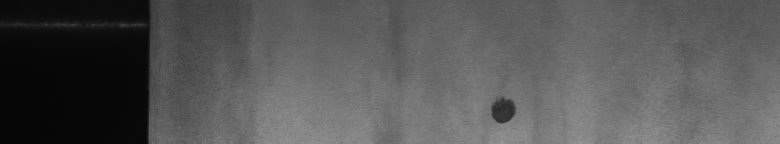fi: (485, 88, 523, 132)
